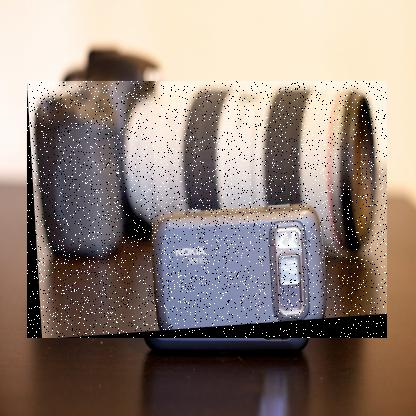Camera: (28, 82, 389, 340)
